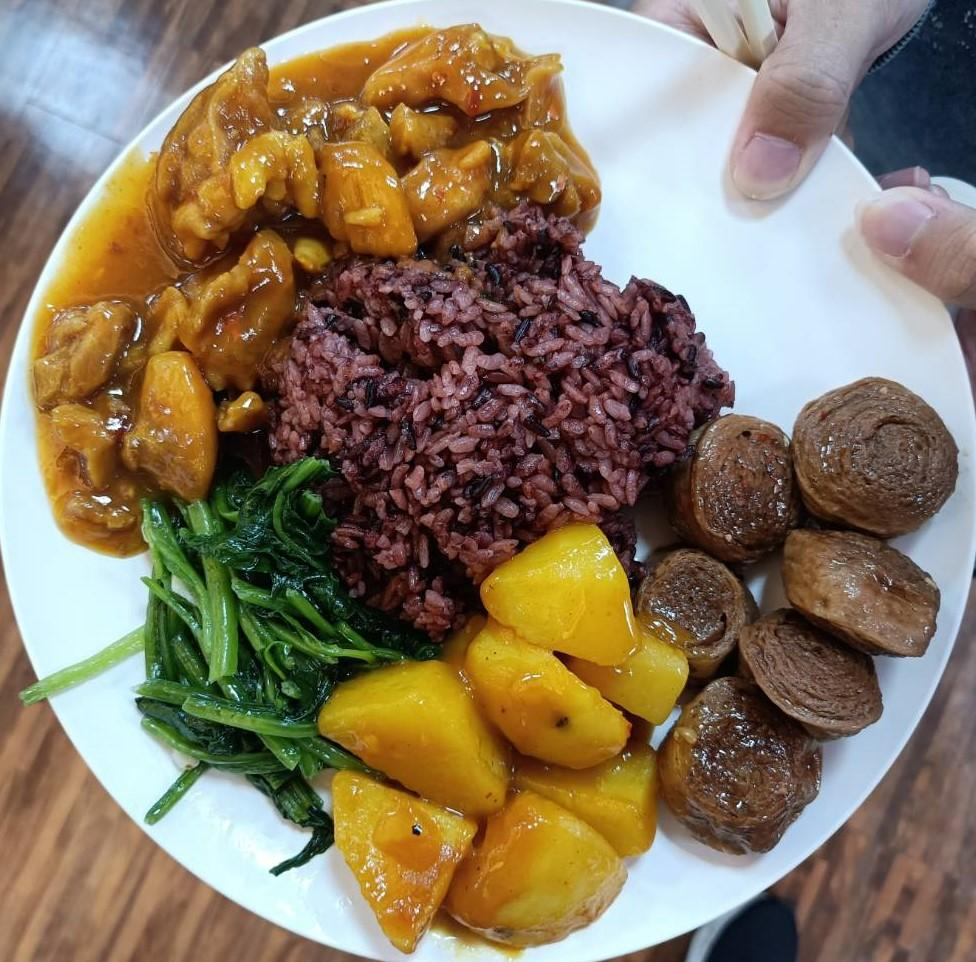big fried chicken leg: (8, 6, 976, 962)
braised fish: (268, 238, 726, 640)
braised fish fillet: (305, 522, 690, 952), (638, 360, 966, 861), (132, 474, 350, 815)
braised pork: (43, 28, 596, 551)
